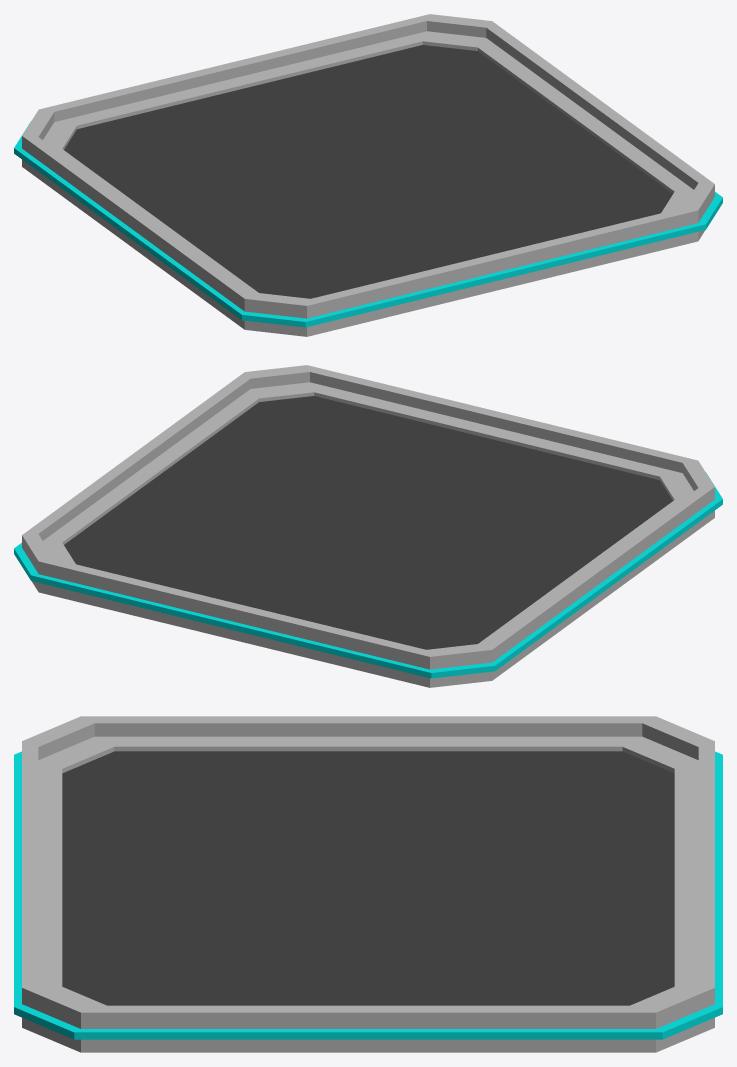
Rendered from MSH_CuadradoNeon.fbx.
The picture shows the model from 3 angles, top to bottom: view 1: azimuth 30°, elevation 25°; view 2: azimuth 150°, elevation 25°; view 3: azimuth 270°, elevation 25°; orthographic projection. The views are drawn at different scales.
Parts seen in each view (by area): view 1: polySurface14; view 2: polySurface14; view 3: polySurface14.
Boxes of the visible parts, x1,y1,x2,y2 form: polySurface14: (14,14,722,336); polySurface14: (14,365,722,687); polySurface14: (14,716,722,1052).
Bounding box in the file's own units: 8.26 × 0.5087 × 8.16.
